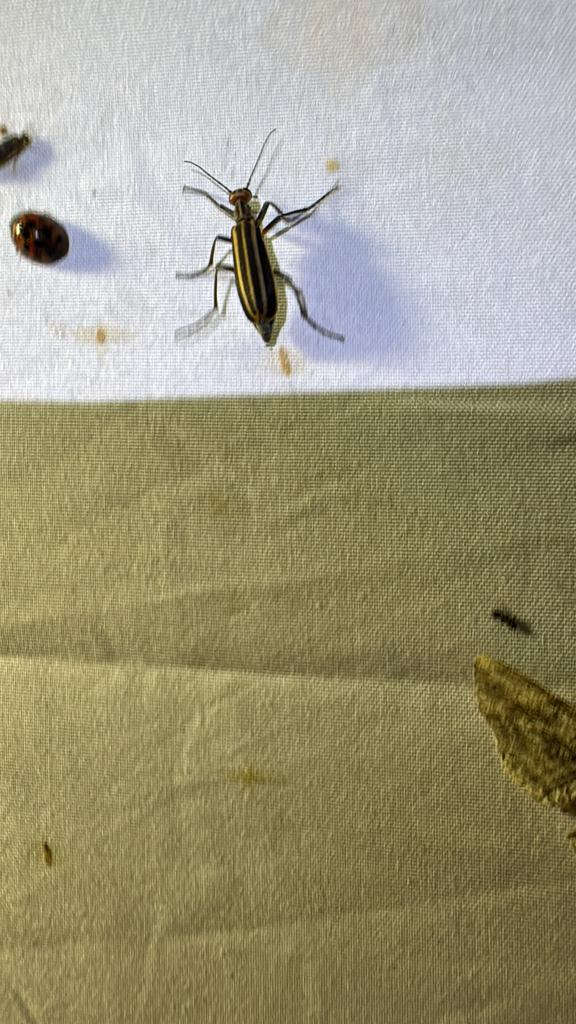blister_beetle: (136, 85, 388, 409)
